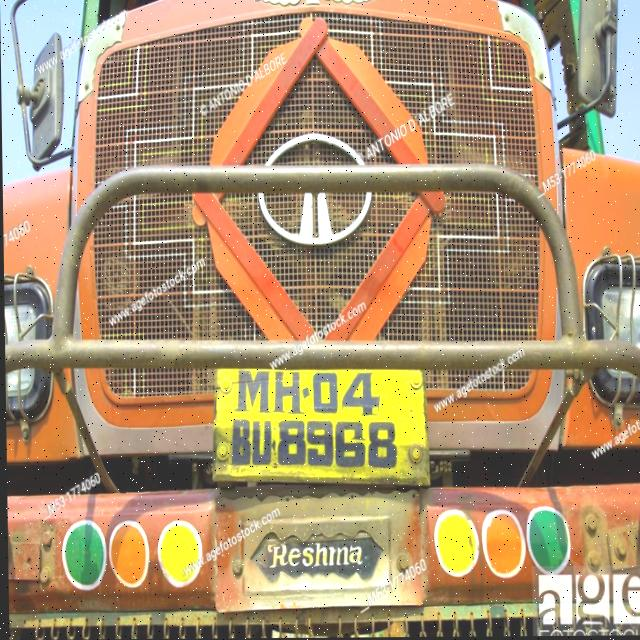plate: (216, 364, 429, 495)
